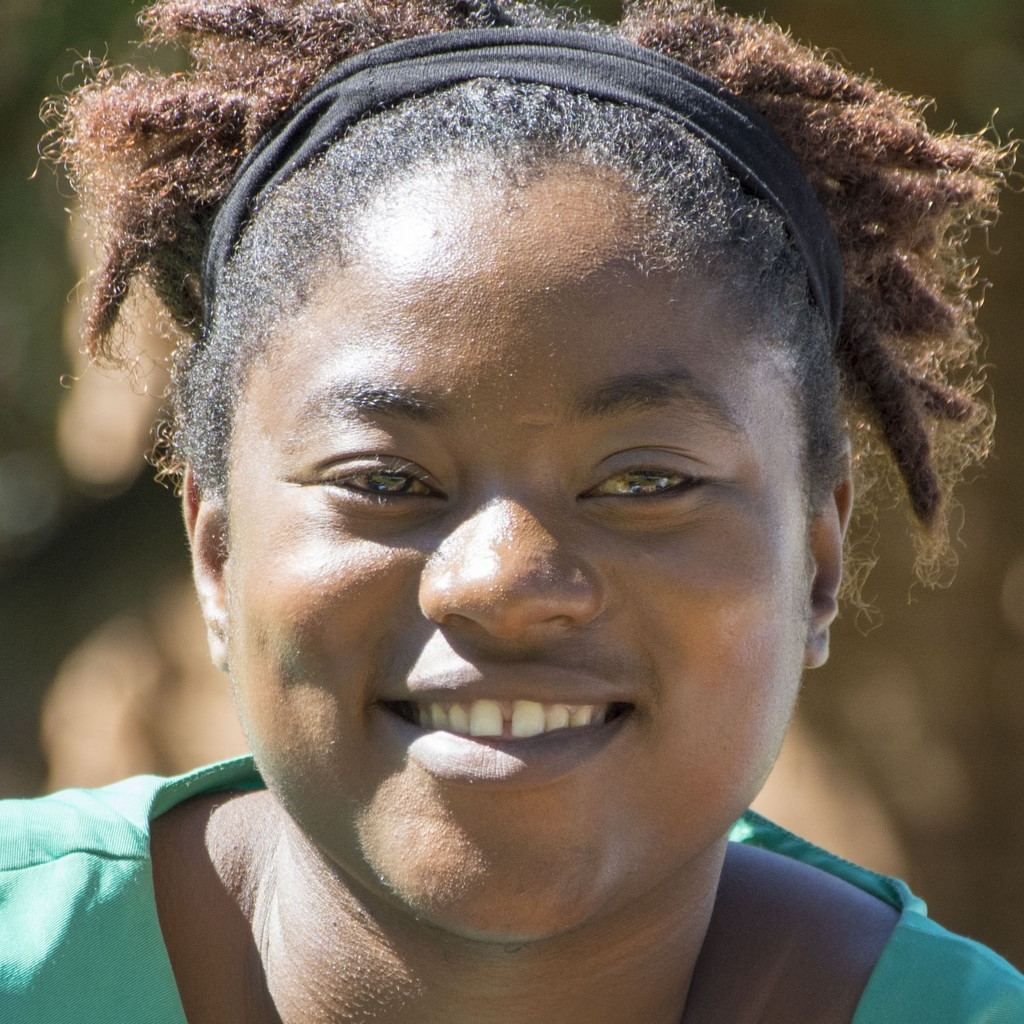sin_mascara: (197, 105, 792, 923)
